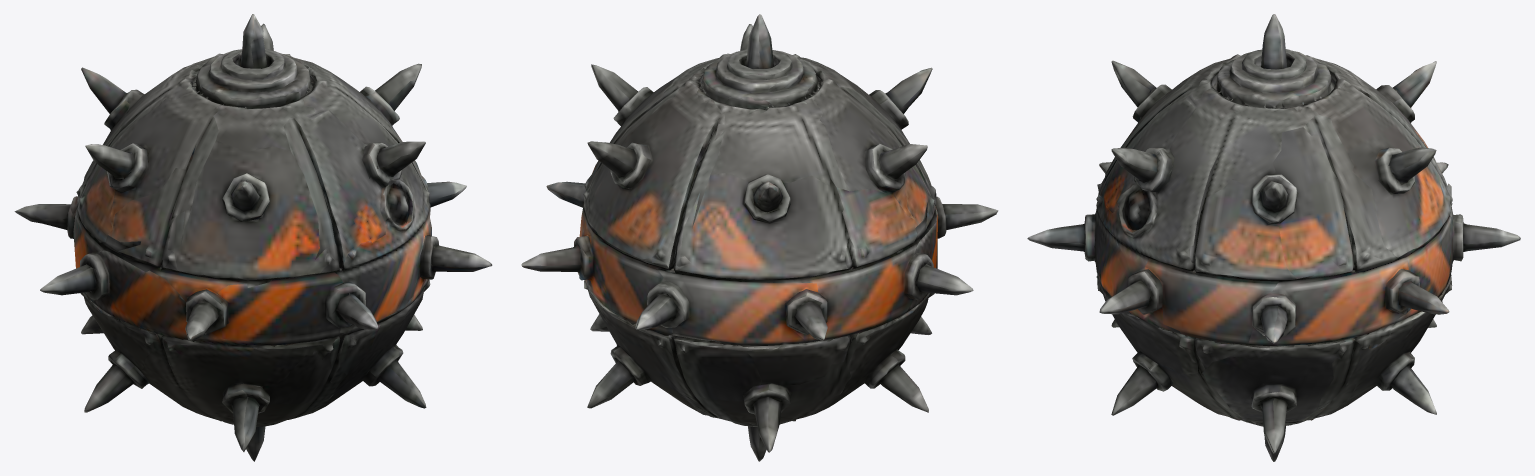
The picture shows the model from 3 angles, left to right: view 1: azimuth 30°, elevation 25°; view 2: azimuth 150°, elevation 25°; view 3: azimuth 270°, elevation 25°; orthographic projection.
Size of the model in its own units: 0.9996 by 1 by 1.
Materials: 1 (1 with a texture image).
